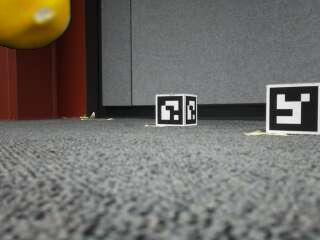lemon: (0, 0, 71, 49)
